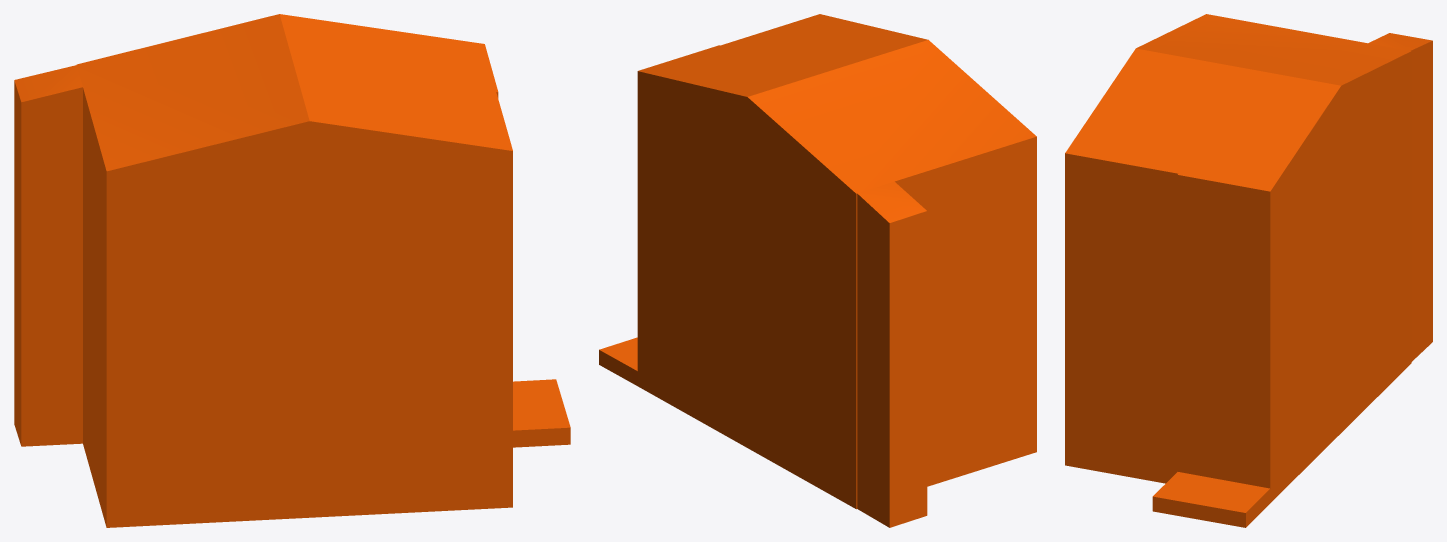
File: DEHB01ALn0001NJ8.dae
3 views of the same model, side by side, from view 1: azimuth 30°, elevation 25°; view 2: azimuth 150°, elevation 25°; view 3: azimuth 270°, elevation 25° (orthographic). The views are drawn at different scales.
Bounding box in the file's own units: 11.7 × 9.01 × 9.39.
